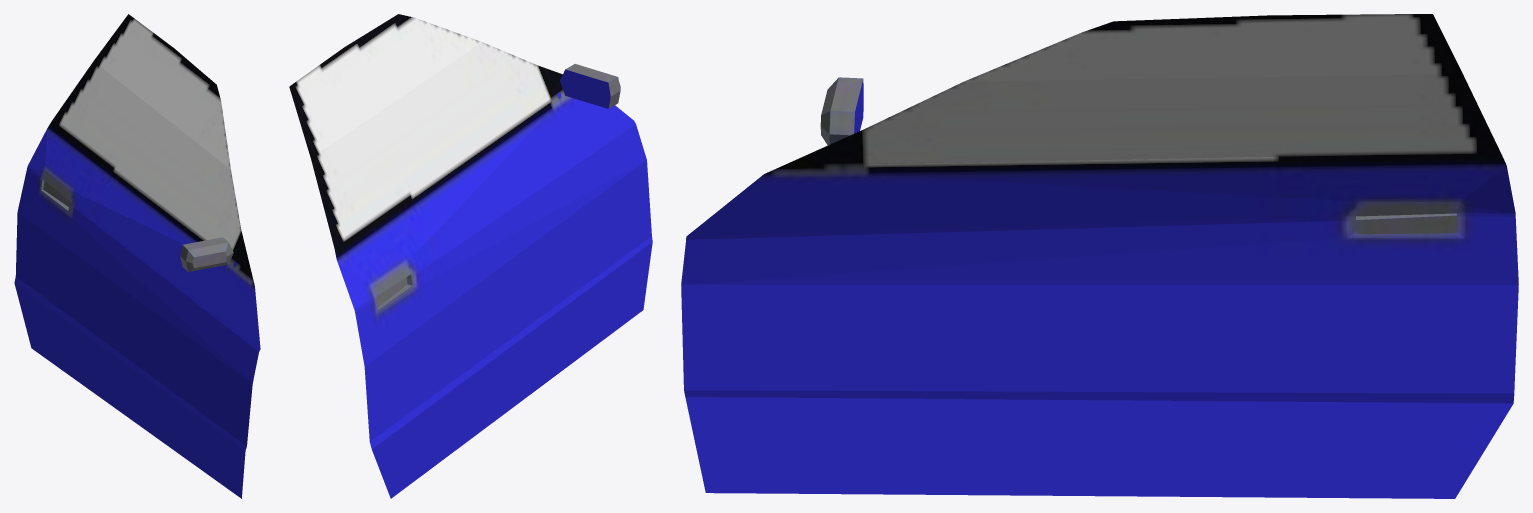
File: rightdoor.obj
3 renders of one model, left to right at view 1: azimuth 30°, elevation 25°; view 2: azimuth 150°, elevation 25°; view 3: azimuth 270°, elevation 25°, orthographic. The views are drawn at different scales.
Parts seen in each view (by area): view 1: rightdoor; view 2: rightdoor; view 3: rightdoor.
Boxes of the visible parts, <box> form: rightdoor: <box>14,14,260,498</box>; rightdoor: <box>289,14,652,498</box>; rightdoor: <box>681,14,1518,498</box>.
Bounding box in the file's own units: 0.2531 × 0.7008 × 0.9434.
